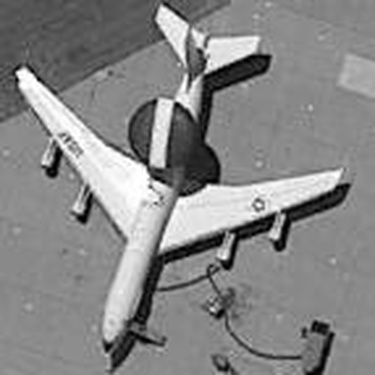airplane: (8, 6, 355, 358)
